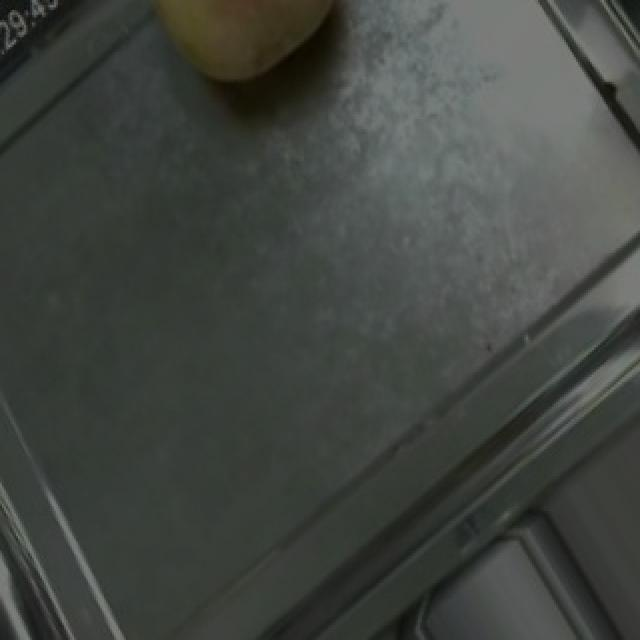Fruit: (112, 0, 368, 122)
